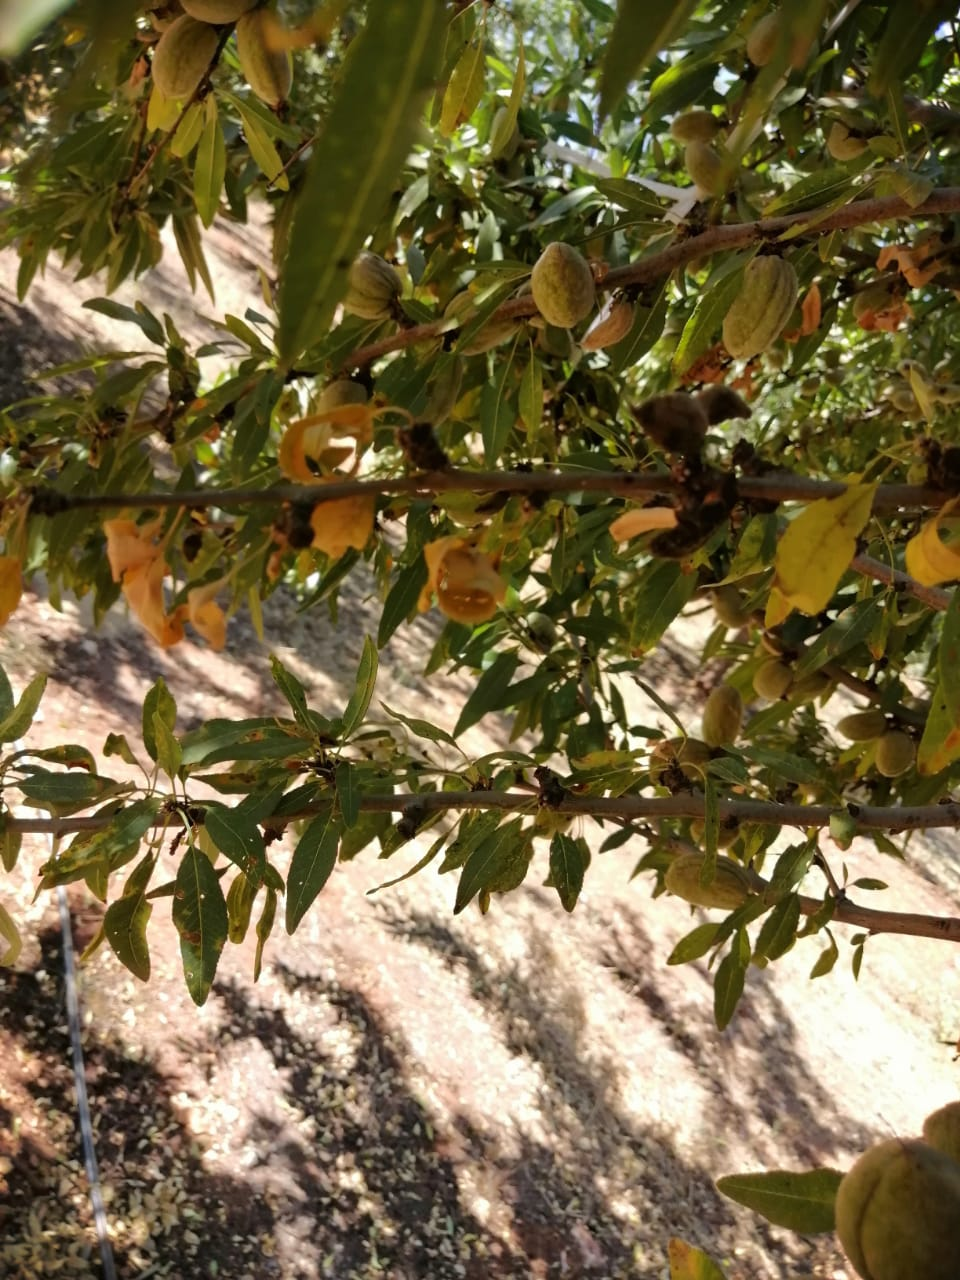chancre fusicocum: (1, 395, 887, 652)
